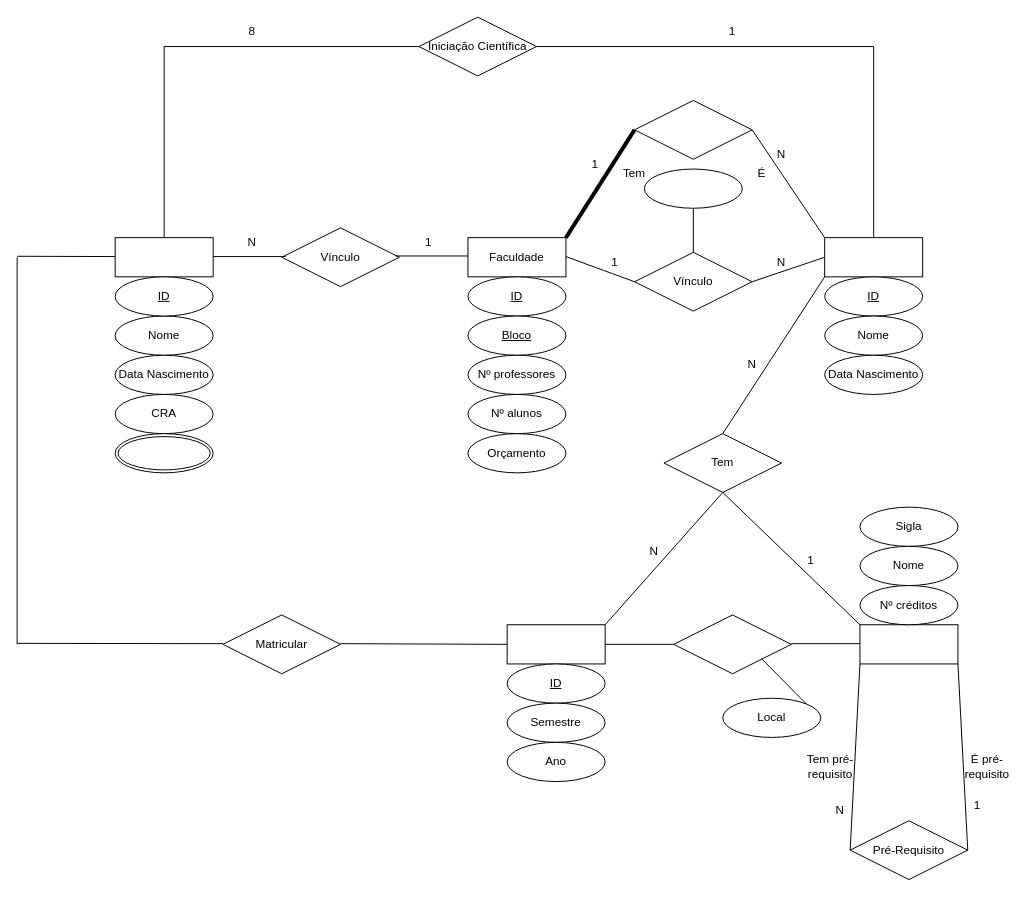
Some shapes in this 1034 by 897 pixel diagram are drawn without their labels. Each missing label, with the centre of its shape:
Aluno: the point at 163,257
Diretor: the point at 693,129
Disciplina: the point at 908,644
Ministrada: the point at 732,644
Professor: the point at 873,257
Salário: the point at 692,188
Telefone: the point at 163,453
Turma: the point at 555,644
